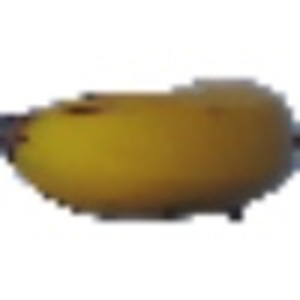banana: (1, 68, 297, 224)
